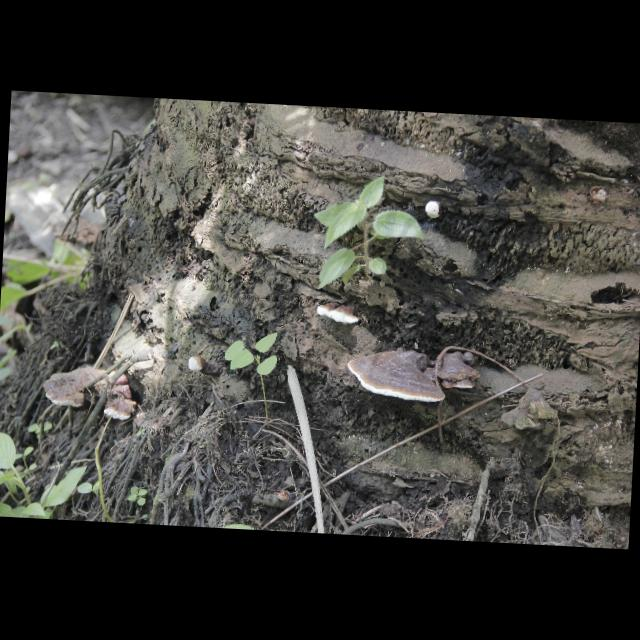ganoderma: (347, 349, 450, 405), (42, 366, 106, 410), (433, 351, 483, 391), (104, 374, 139, 423), (317, 303, 360, 326)
primordium: (426, 202, 445, 221), (189, 357, 207, 375)
